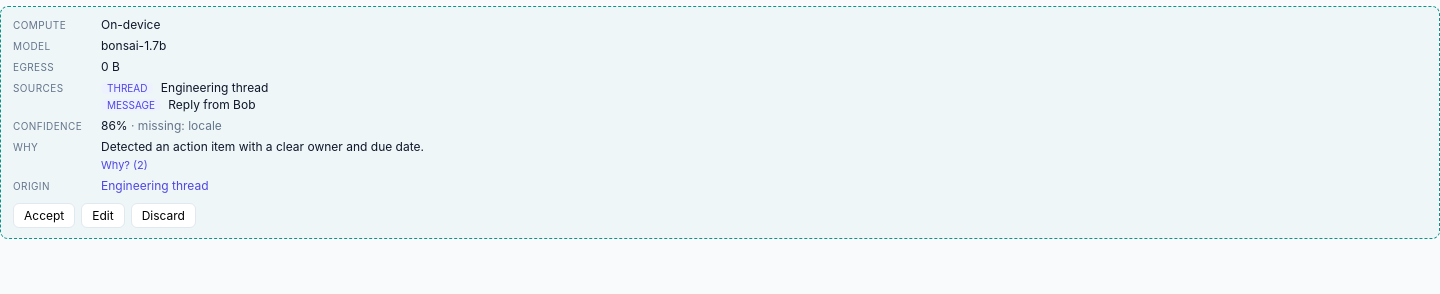
it: PrivacyStrip › expands "Why?" details on click and renders source links
Click the button with test id "privacy-why-toggle".
click(124, 165)  # box [101,158,1427,172]
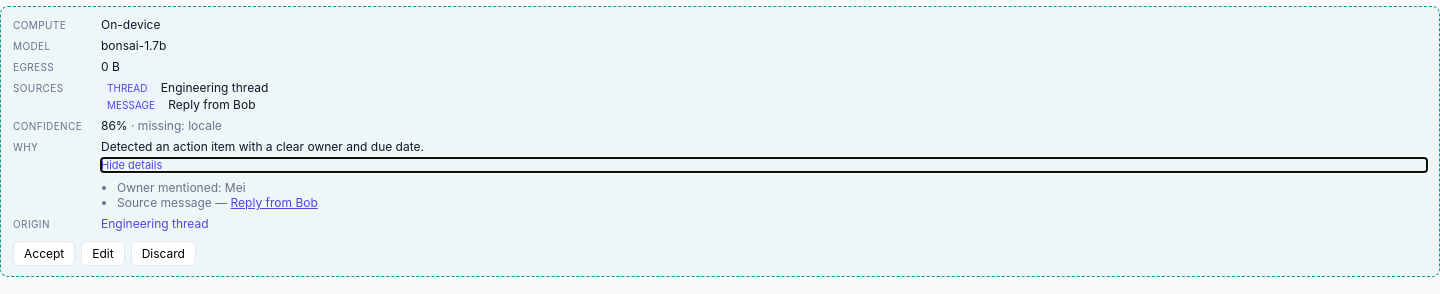
Now the button with test id "privacy-why-toggle" is expanded, box [101,158,1427,172]
Now the list with test id "privacy-why-details" shows "Owner mentioned: Mei", box [117,180,246,195]
Now the list with test id "privacy-why-details" shows "Reply from Bob", box [231,195,318,210]
